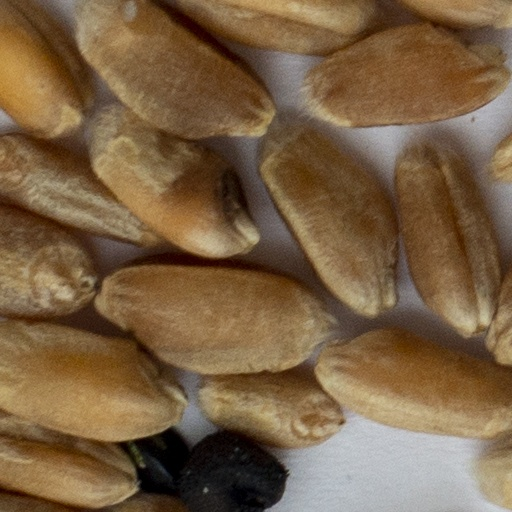Agrostemma-poly: (176, 432, 285, 511)
Fallopia-Convolvulus-poly: (132, 432, 186, 492)
